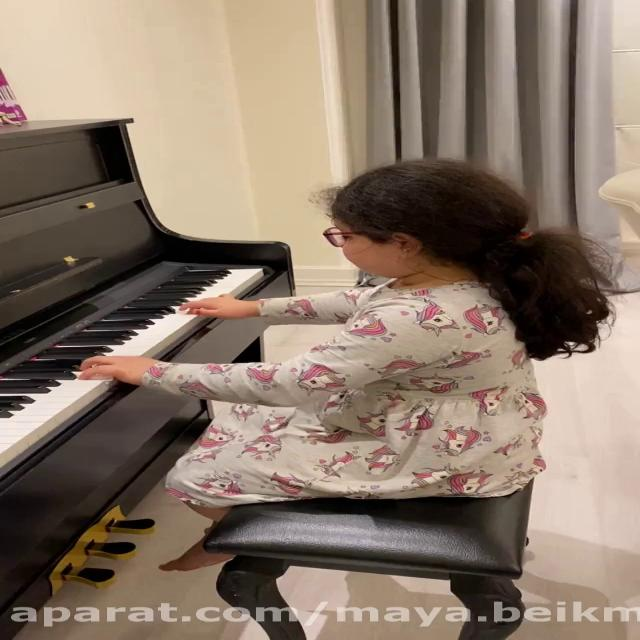Piano: (0, 249, 287, 475)
